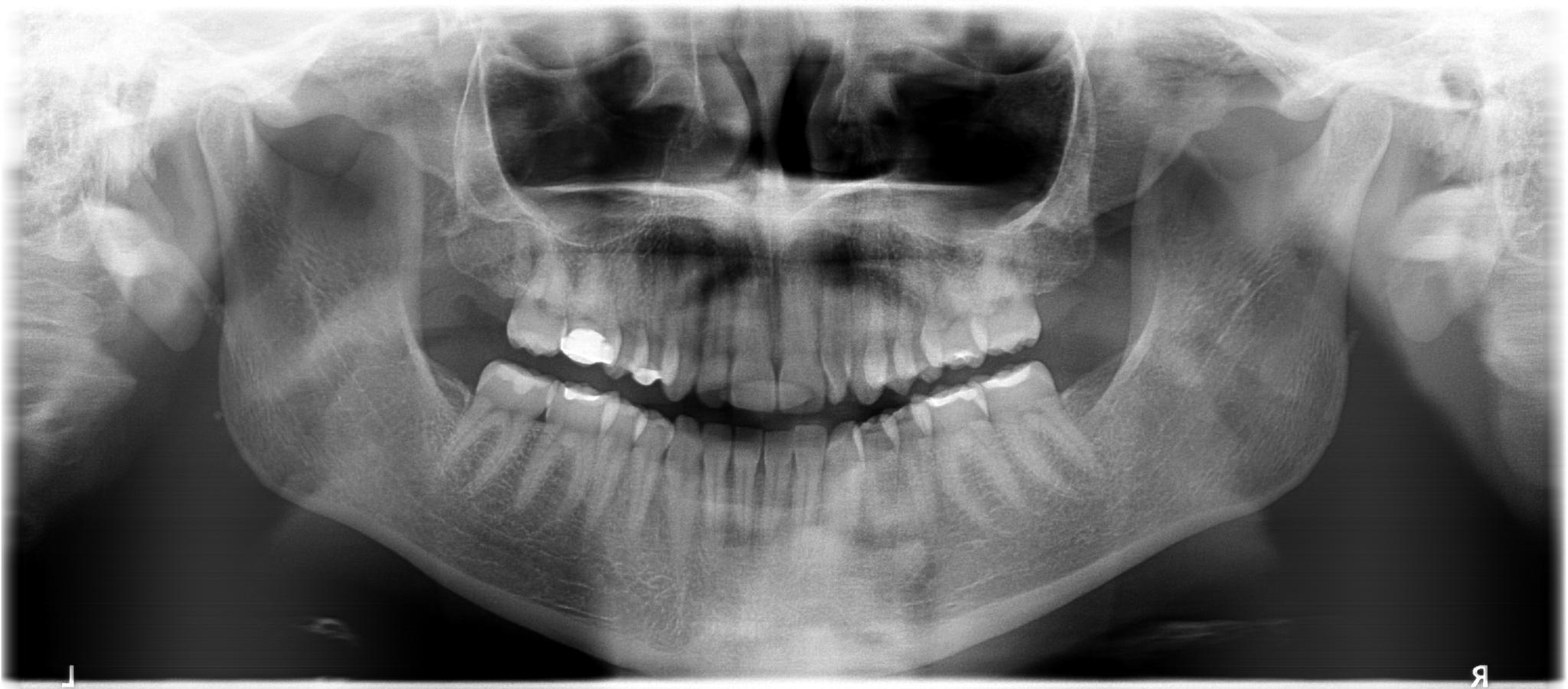Premolars: (297, 188, 847, 563)
